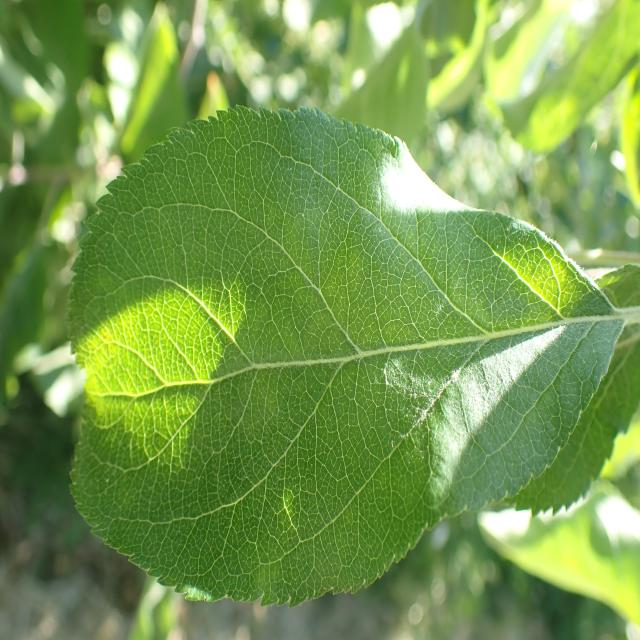healthy: (64, 103, 624, 608), (492, 260, 640, 520)
